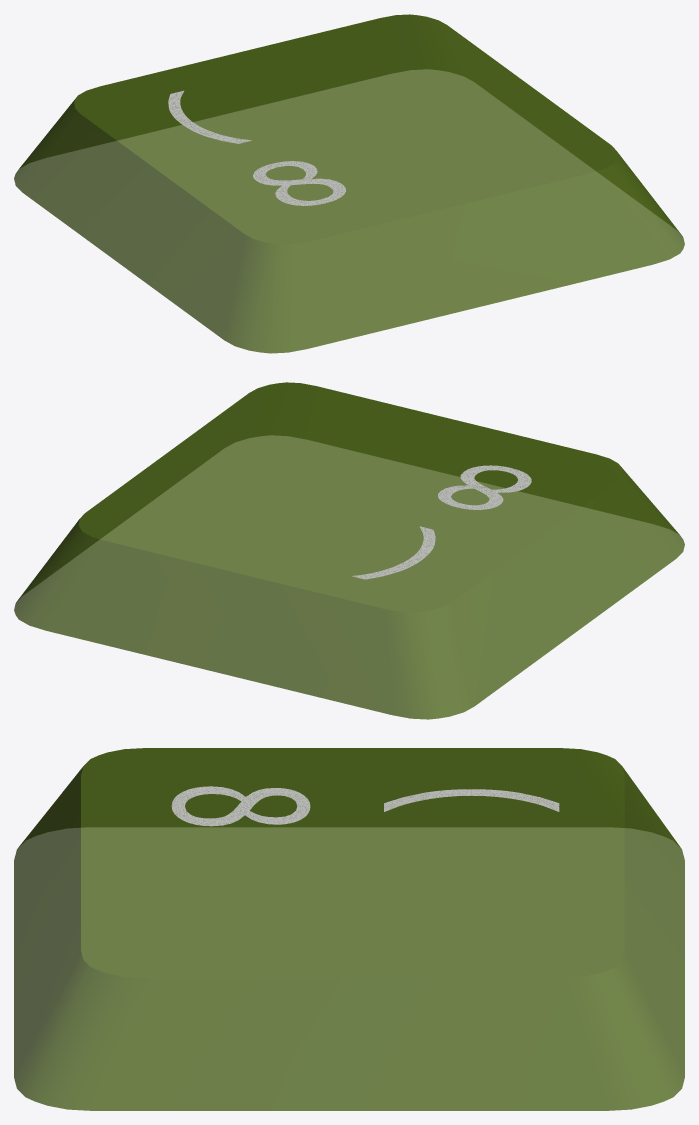
Rendered from original-118.obj.
3 renders of one model, top to bottom at view 1: azimuth 30°, elevation 25°; view 2: azimuth 150°, elevation 25°; view 3: azimuth 270°, elevation 25°, orthographic. The views are drawn at different scales.
Visible parts, largest first — view 1: mesh110/mesh110-geometry#mesh110-geometry; view 2: mesh110/mesh110-geometry#mesh110-geometry; view 3: mesh110/mesh110-geometry#mesh110-geometry.
Part boxes in pixels (x1,y1,x2,y2): mesh110/mesh110-geometry#mesh110-geometry: (14, 14, 684, 353); mesh110/mesh110-geometry#mesh110-geometry: (14, 382, 684, 719); mesh110/mesh110-geometry#mesh110-geometry: (14, 748, 684, 1110).
Size of the model in its own units: 0.07 by 0.012 by 0.07.
